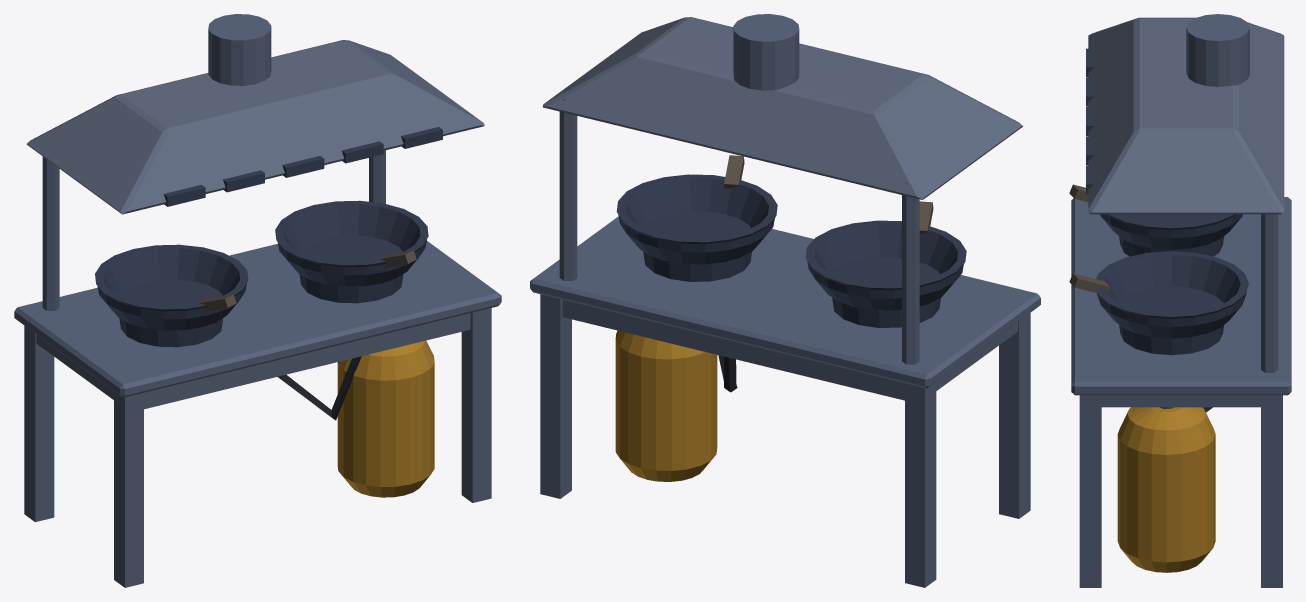
File: bw_targ_wok_station.glb
The picture shows the model from 3 angles, left to right: view 1: azimuth 30°, elevation 25°; view 2: azimuth 150°, elevation 25°; view 3: azimuth 270°, elevation 25°; orthographic projection. The views are drawn at different scales.
Parts seen in each view (by area): view 1: apron.001, apron.004, apron.002, apron.005, apron, apron.003; view 2: apron.001, apron.004, apron.002, apron.005, apron.003; view 3: apron.001, apron.004, apron.002, apron.005, apron.003.
Part boxes in pixels (x1,y1,x2,y2): apron.001: (14, 14, 501, 587); apron.004: (26, 40, 484, 214); apron.002: (95, 127, 442, 347); apron.005: (337, 340, 434, 497); apron: (277, 356, 361, 420); apron.003: (199, 250, 416, 311); apron.001: (530, 14, 1040, 587); apron.004: (542, 17, 1022, 199); apron.002: (616, 174, 966, 327); apron.005: (615, 330, 717, 481); apron.003: (724, 155, 933, 234); apron.001: (1071, 14, 1291, 587); apron.004: (1088, 17, 1284, 408); apron.002: (1086, 48, 1248, 355); apron.005: (1117, 407, 1215, 572); apron.003: (1069, 184, 1109, 293).
Size of the model in its own units: 1.8 by 2.1 by 0.9.
